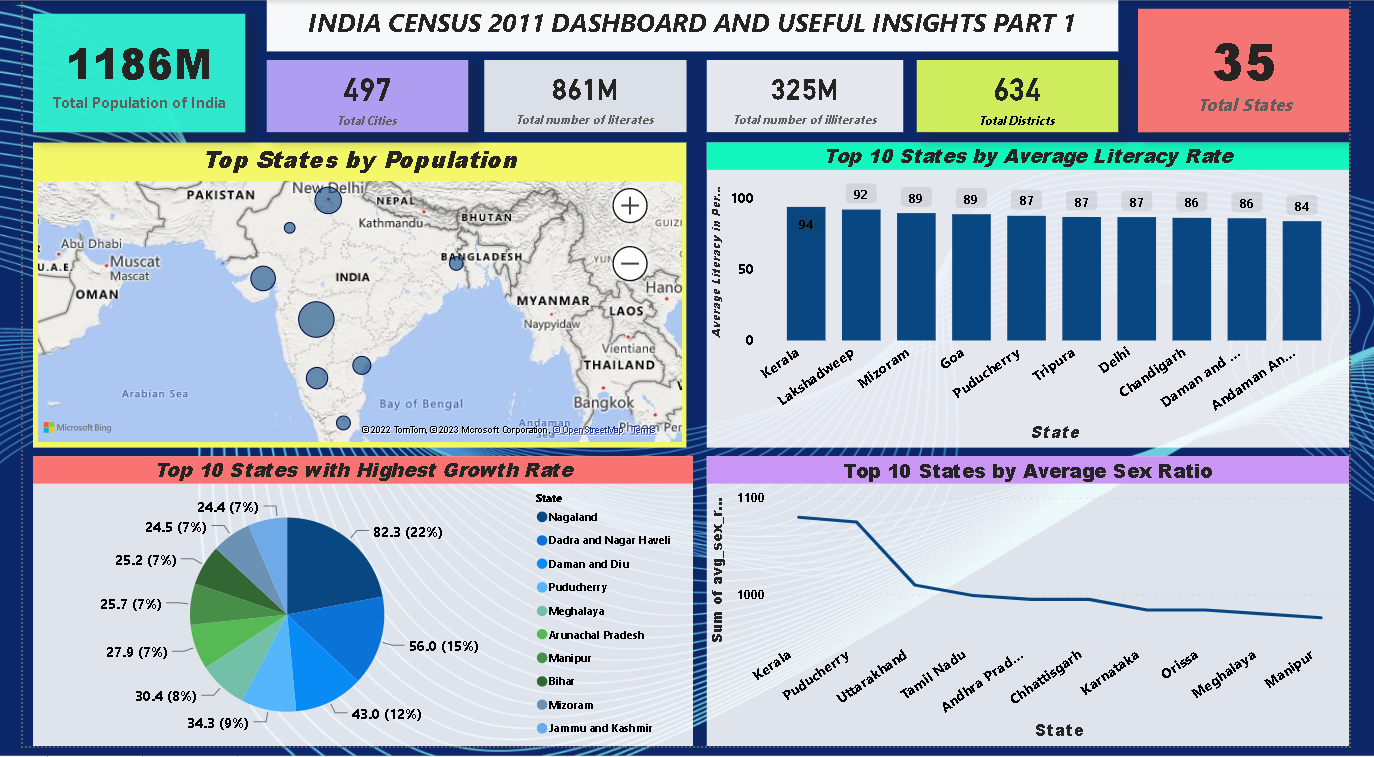

The dashboard page shown, as its layout file describes it:
{"tool":"powerbi","page":{"name":"Page 1","canvas":[1280,720],"ordinal":0},"visuals":[{"type":"map","title":"Top States by Population","fields":{"Category":["data3.State"],"Size":["Sum(data3.Population)"]},"box":[9.6,137.5,630.8,294.3],"z":0},{"type":"pieChart","title":"Top 10 States with Highest Growth Rate","fields":{"Category":["AVG GROWTH DISTRICT WISE.State"],"Y":["Avg(AVG GROWTH DISTRICT WISE.avg_growth)"]},"box":[9.6,440.2,636.8,279.8],"z":1000},{"type":"clusteredColumnChart","title":"Top 10 States by Average Literacy Rate","fields":{"Category":["HIGHEST LITERACY RATE  STATE WISE.State"],"Y":["Sum(HIGHEST LITERACY RATE  STATE WISE.avg_literacy)"]},"box":[659.7,137.5,619.9,294.3],"z":2000},{"type":"lineChart","title":"Top 10 States by  Average Sex Ratio","fields":{"Category":["HIGHEST SEX RATIO  STATE WISE.State"],"Y":["Sum(HIGHEST SEX RATIO  STATE WISE.avg_sex_ratio)"]},"box":[659.7,440.2,619.9,279.8],"z":3000},{"type":"textbox","box":[235.2,0,821.3,49.4],"z":4000},{"type":"card","fields":{"Values":["Count(AVG LITERACY DISTRICT WISE.State)"]},"box":[1075.8,8.4,203.8,119.4],"z":5000},{"type":"card","fields":{"Values":["Count(AVG LITERACY DISTRICT WISE.district)"]},"box":[862.3,57.9,194.2,69.9],"z":6000},{"type":"card","fields":{"Values":["Sum(POPULATION BEFORE.population_after)"]},"box":[9.6,13.3,205,114.6],"z":7000},{"type":"card","fields":{"Values":["Count(data3.City)"]},"box":[235.2,57.9,194.2,69.9],"z":8000},{"type":"card","fields":{"Values":["Sum(LITERATES AND ILLITERATES STATE DISTRICT WISE.number_of_literates)"]},"box":[445,57.9,195.4,69.9],"z":9000},{"type":"card","fields":{"Values":["Sum(LITERATES AND ILLITERATES STATE DISTRICT WISE.number_of_illiterates)"]},"box":[659.7,57.9,189.3,69.9],"z":10000}]}

Visuals, with their boxes in screenshot pixels (x1, y1, x2, y2), scaled from the page's 1280x720 canvas onto the 1374x757 screenshot:
"Top States by Population" map: box(10, 145, 687, 454)
"Top 10 States with Highest Growth Rate" pieChart: box(10, 463, 694, 756)
"Top 10 States by Average Literacy Rate" clusteredColumnChart: box(708, 145, 1373, 454)
"Top 10 States by  Average Sex Ratio" lineChart: box(708, 463, 1373, 756)
textbox: box(252, 0, 1134, 52)
card - Count(AVG LITERACY DISTRICT WISE.State): box(1155, 9, 1373, 134)
card - Count(AVG LITERACY DISTRICT WISE.district): box(926, 61, 1134, 134)
card - Sum(POPULATION BEFORE.population_after): box(10, 14, 230, 134)
card - Count(data3.City): box(252, 61, 461, 134)
card - Sum(LITERATES AND ILLITERATES STATE DISTRICT WISE.number_of_literates): box(478, 61, 687, 134)
card - Sum(LITERATES AND ILLITERATES STATE DISTRICT WISE.number_of_illiterates): box(708, 61, 911, 134)
